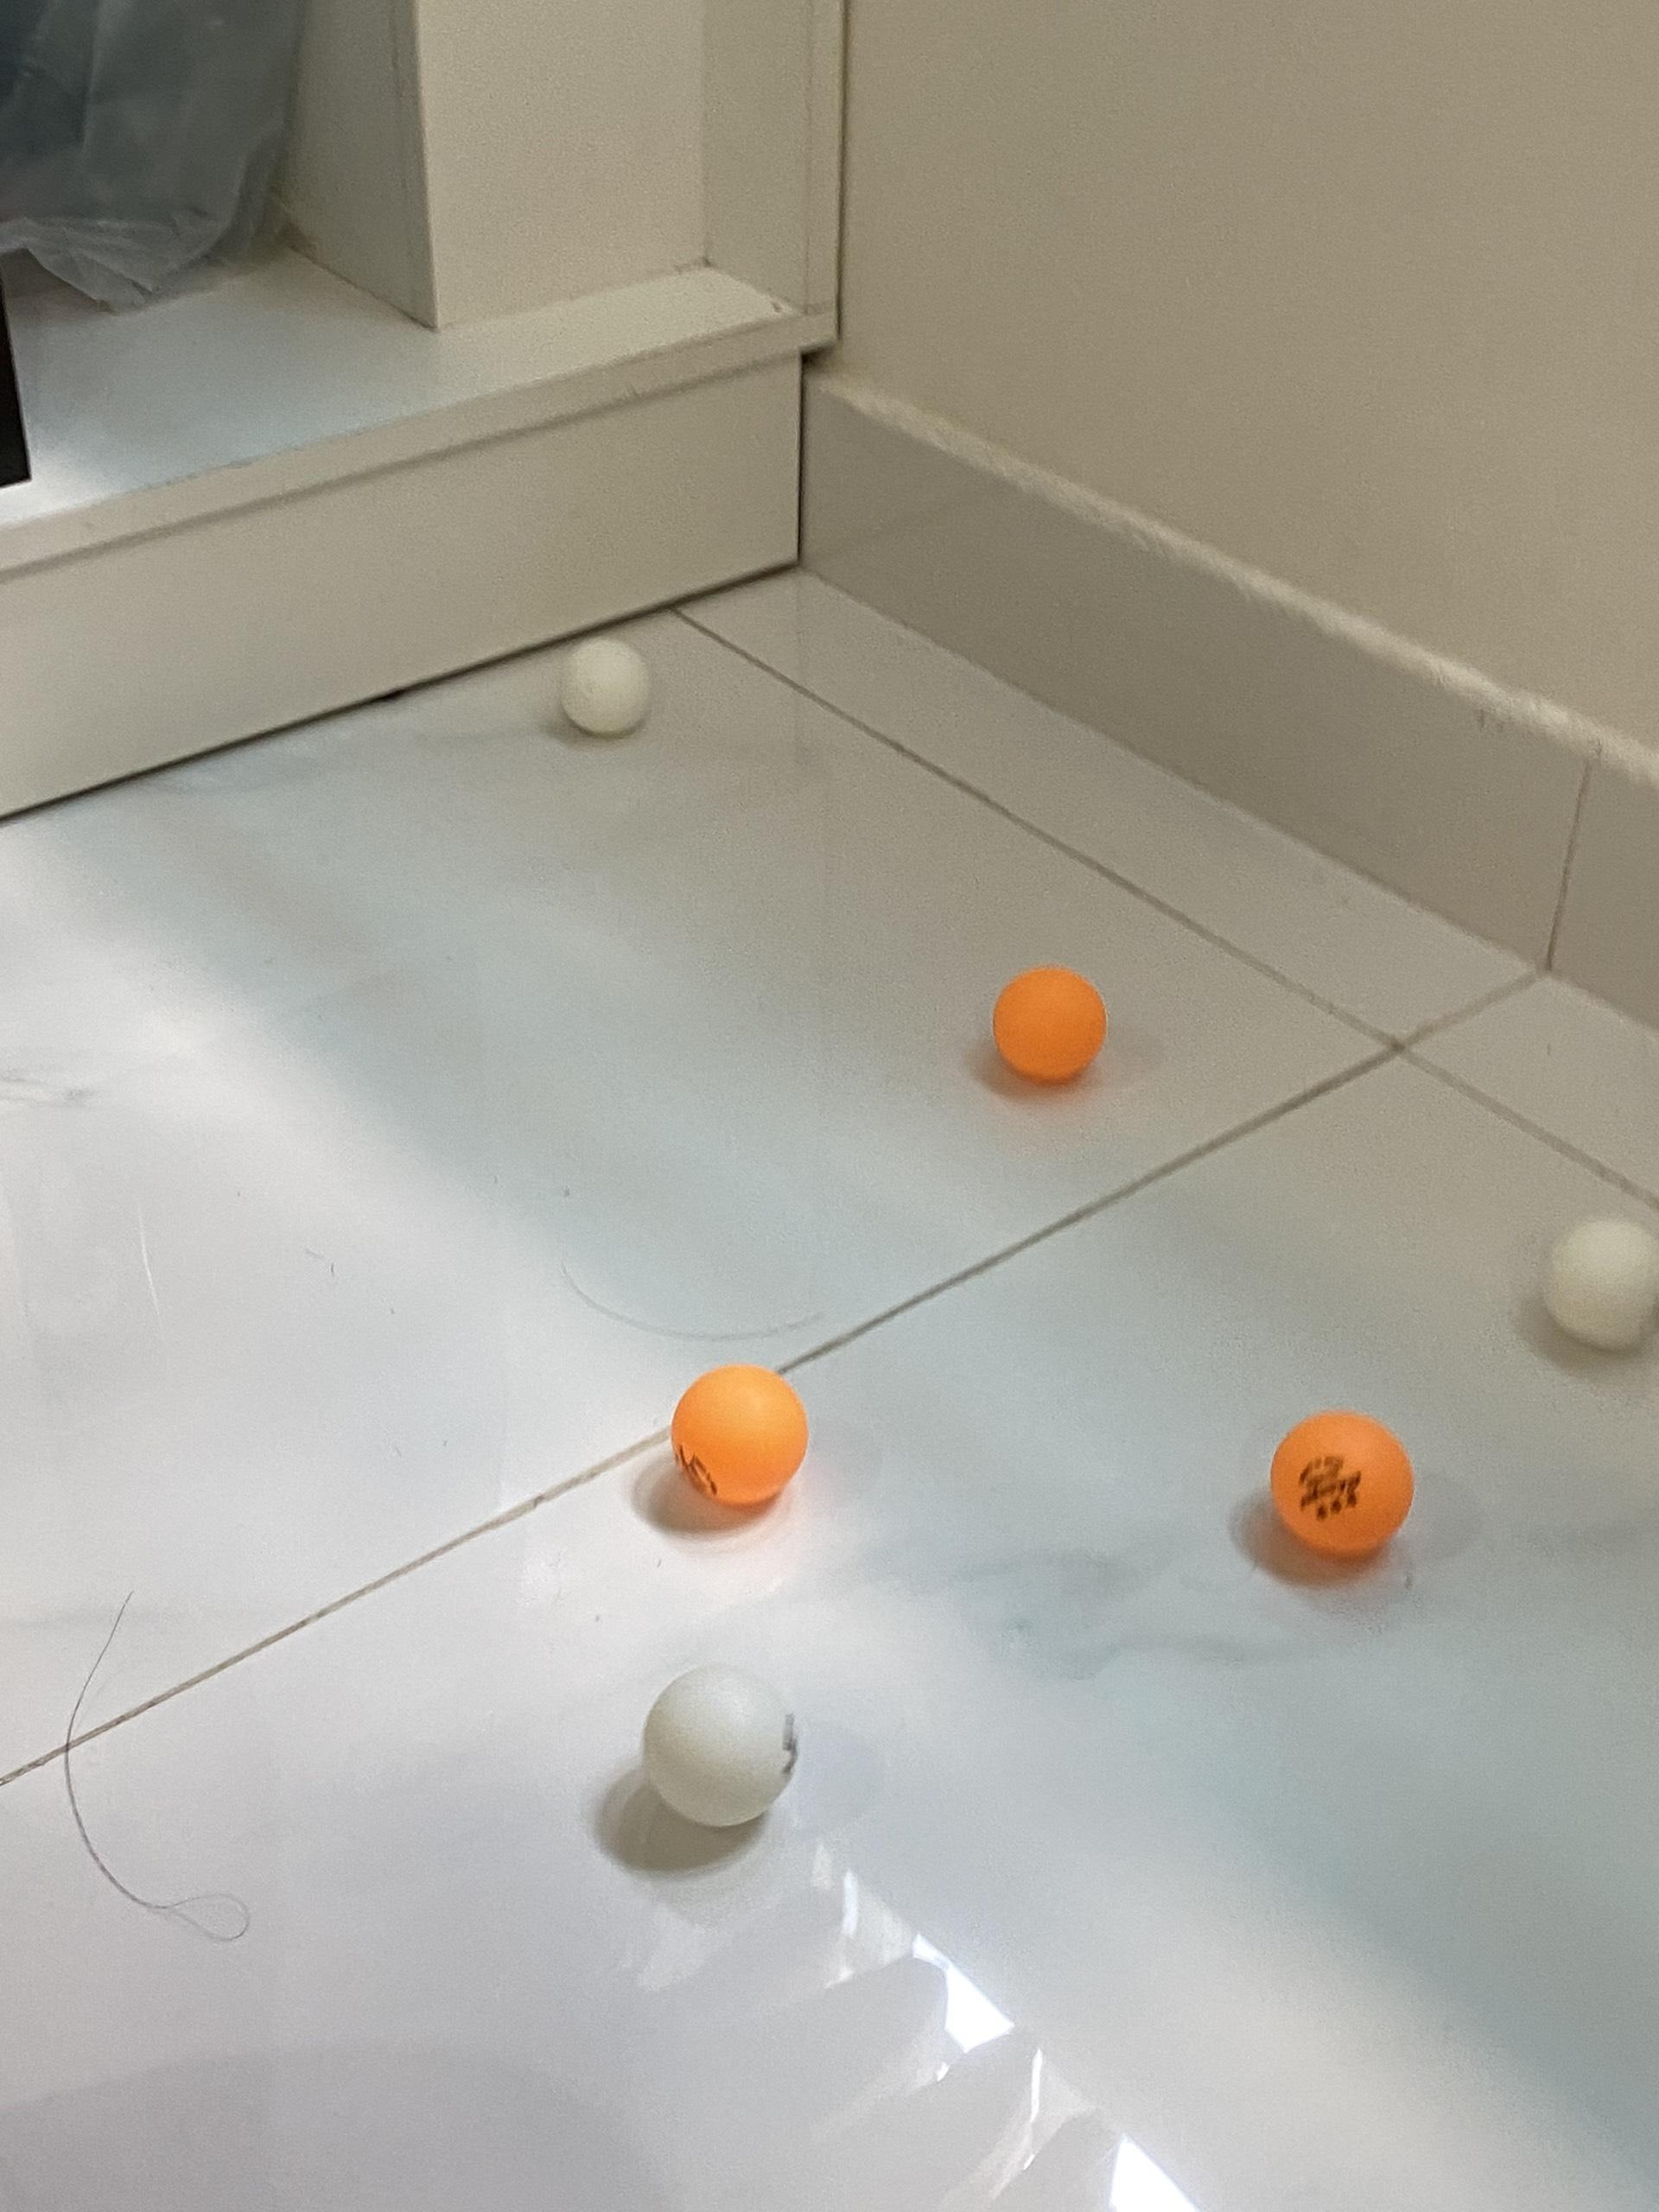oball: (1267, 1411, 1415, 1559), (674, 1362, 816, 1494), (997, 960, 1108, 1076)
